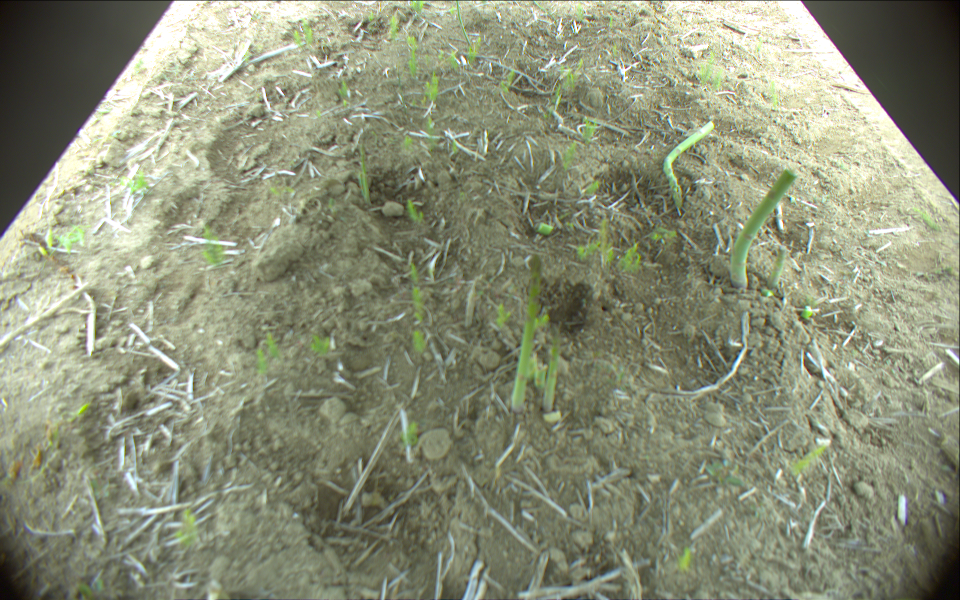aspa: (730, 169, 799, 288), (662, 119, 716, 210), (511, 250, 541, 411), (544, 329, 565, 416), (358, 141, 374, 209), (454, 1, 474, 48), (768, 247, 785, 290)
